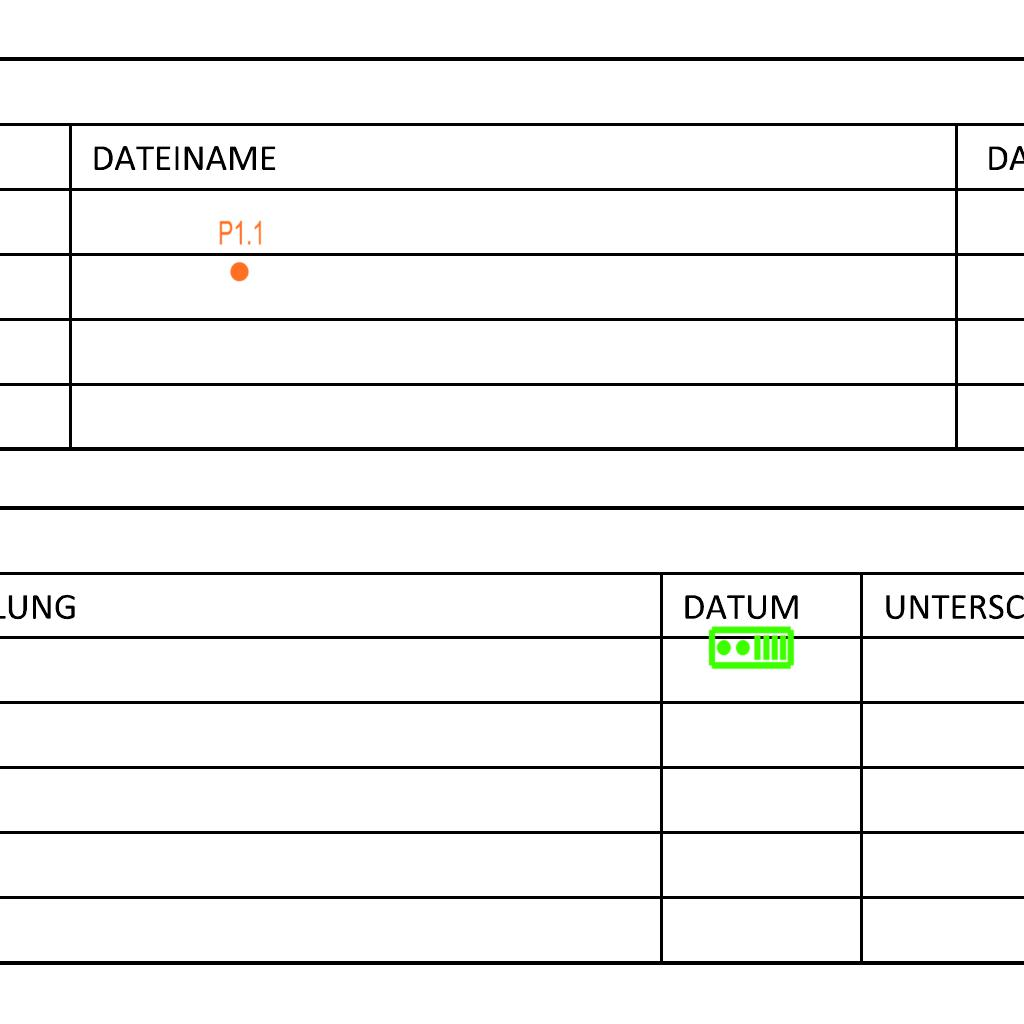Downlight_LED_Einbauleuchten_Flur: (218, 219, 264, 283)
Gegensprechanlage_mit_Video: (707, 625, 795, 672)
